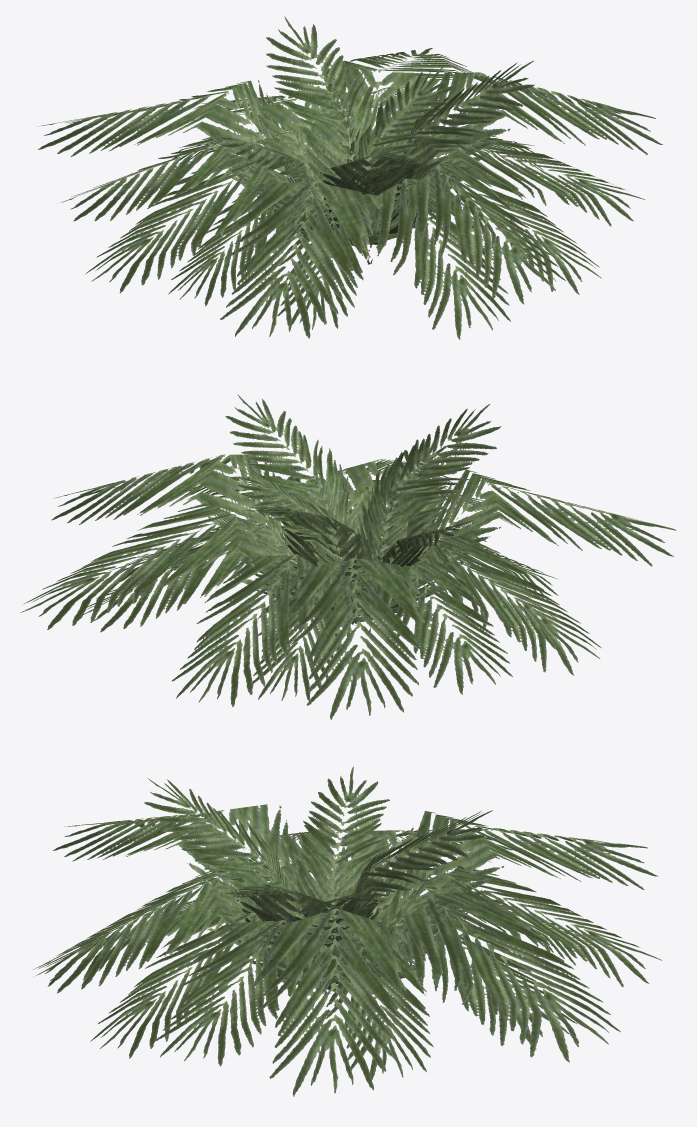
File: mbushtro_0.dae
The picture shows the model from 3 angles, top to bottom: view 1: azimuth 30°, elevation 25°; view 2: azimuth 150°, elevation 25°; view 3: azimuth 270°, elevation 25°; orthographic projection. The views are drawn at different scales.
Visible parts, largest first — view 1: mbushtro_0; view 2: mbushtro_0; view 3: mbushtro_0.
Part boxes in pixels (bbox=[...]): mbushtro_0: bbox=[37, 16, 662, 339]; mbushtro_0: bbox=[20, 394, 676, 719]; mbushtro_0: bbox=[33, 766, 661, 1096].
Size of the model in its own units: 7.07 by 6.74 by 2.42.
1 material, 1 textured.
